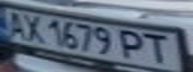1: (42, 17, 63, 47)
6: (57, 19, 78, 51)
7: (75, 21, 96, 53)
9: (93, 25, 118, 56)
A: (3, 9, 30, 39)
P: (115, 28, 151, 61)
T: (139, 31, 178, 64)
X: (21, 14, 48, 43)
